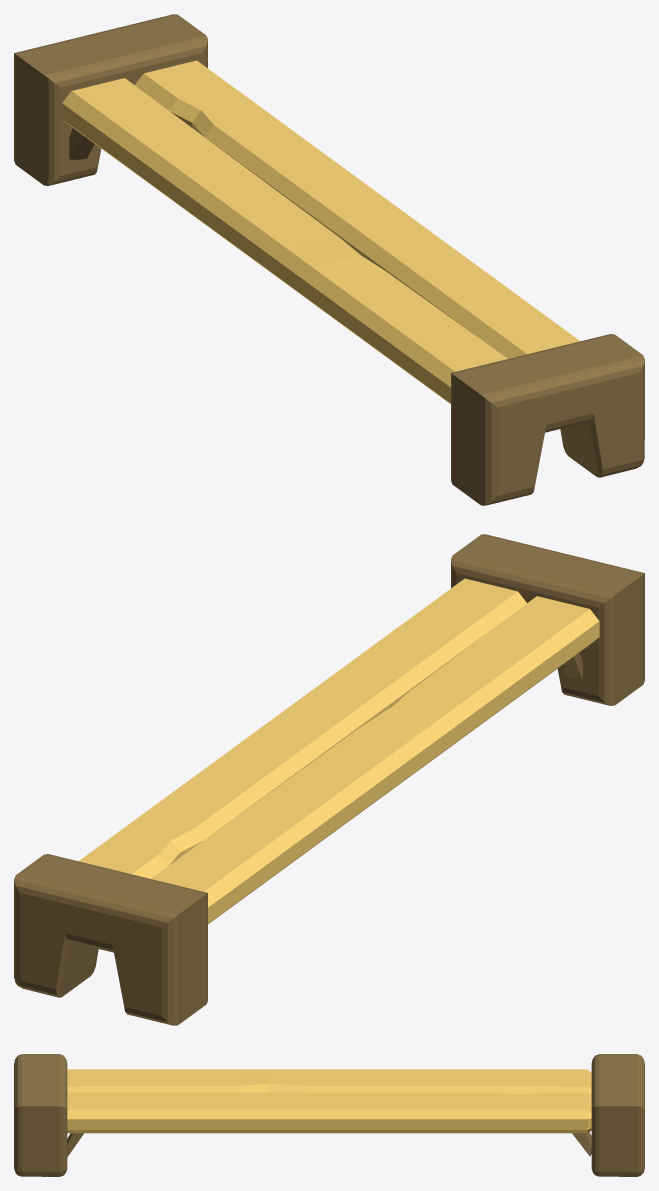
Rendered from bench.fbx.
3 views of the same model, one above another, from view 1: azimuth 30°, elevation 25°; view 2: azimuth 150°, elevation 25°; view 3: azimuth 270°, elevation 25° (orthographic). The views are drawn at different scales.
Parts seen in each view (by area): view 1: Cube.006; view 2: Cube.006; view 3: Cube.006.
Boxes of the visible parts, box(x1,y1,x2,y2) form: Cube.006: box(14, 14, 644, 505); Cube.006: box(14, 534, 644, 1025); Cube.006: box(14, 1054, 644, 1176).
Bounding box in the file's own units: 129 × 84.13 × 659.
